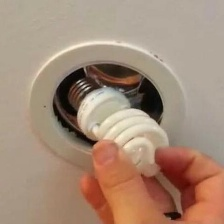light_bulb: (60, 72, 184, 183)
